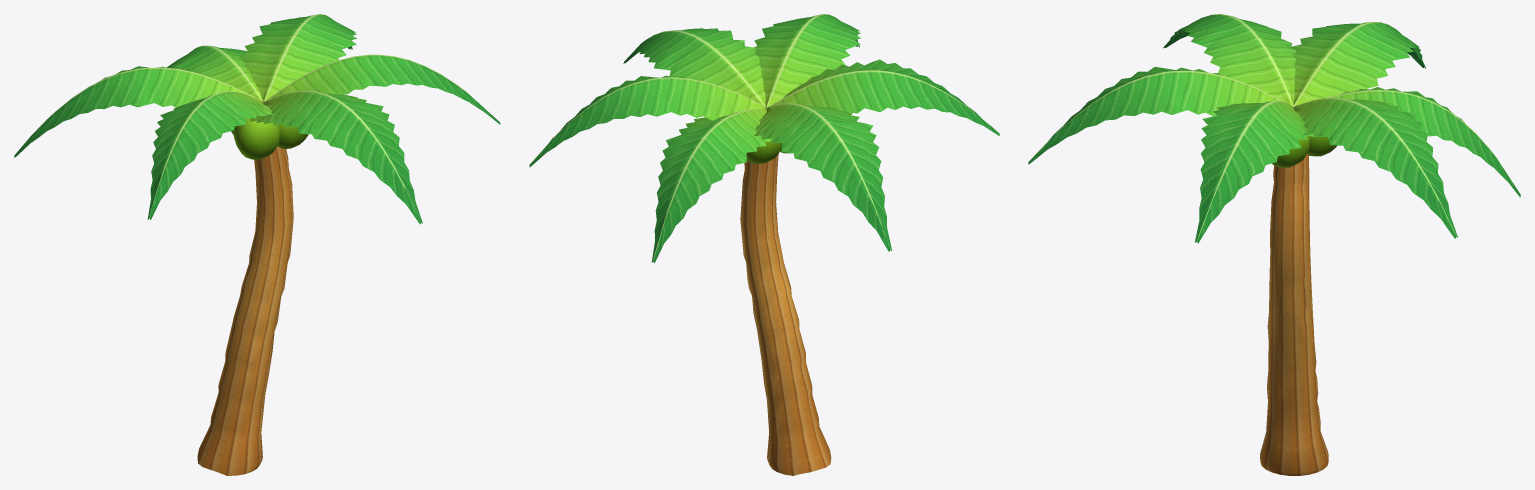
Rendered from palm.glb.
The picture shows the model from 3 angles, left to right: view 1: azimuth 30°, elevation 25°; view 2: azimuth 150°, elevation 25°; view 3: azimuth 270°, elevation 25°; orthographic projection. The views are drawn at different scales.
Parts seen in each view (by area): view 1: Palm_Broad_Frond_1, Palm_Slender_Curved_Trunk, object 3; view 2: Palm_Broad_Frond_1, Palm_Slender_Curved_Trunk, object 3; view 3: Palm_Broad_Frond_1, Palm_Slender_Curved_Trunk, object 3.
Part boxes in pixels (box(x1,y1,x2,y2)): Palm_Broad_Frond_1: box(14, 14, 500, 224); Palm_Slender_Curved_Trunk: box(197, 146, 293, 475); object 3: box(231, 118, 308, 159); Palm_Broad_Frond_1: box(529, 14, 999, 262); Palm_Slender_Curved_Trunk: box(740, 154, 831, 475); object 3: box(746, 141, 790, 163); Palm_Broad_Frond_1: box(1028, 14, 1520, 243); Palm_Slender_Curved_Trunk: box(1260, 154, 1328, 475); object 3: box(1272, 134, 1337, 167).
Size of the model in its own units: 3.28 by 3.24 by 3.48.
3 materials, 3 textured.
